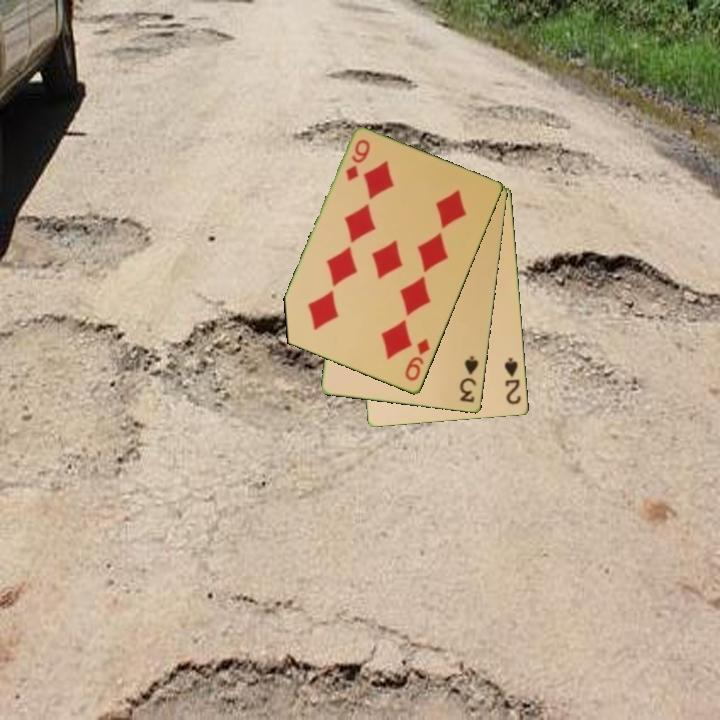2s: (501, 354, 524, 407)
3s: (457, 353, 482, 406)
9d: (401, 335, 433, 384), (342, 136, 373, 184)
